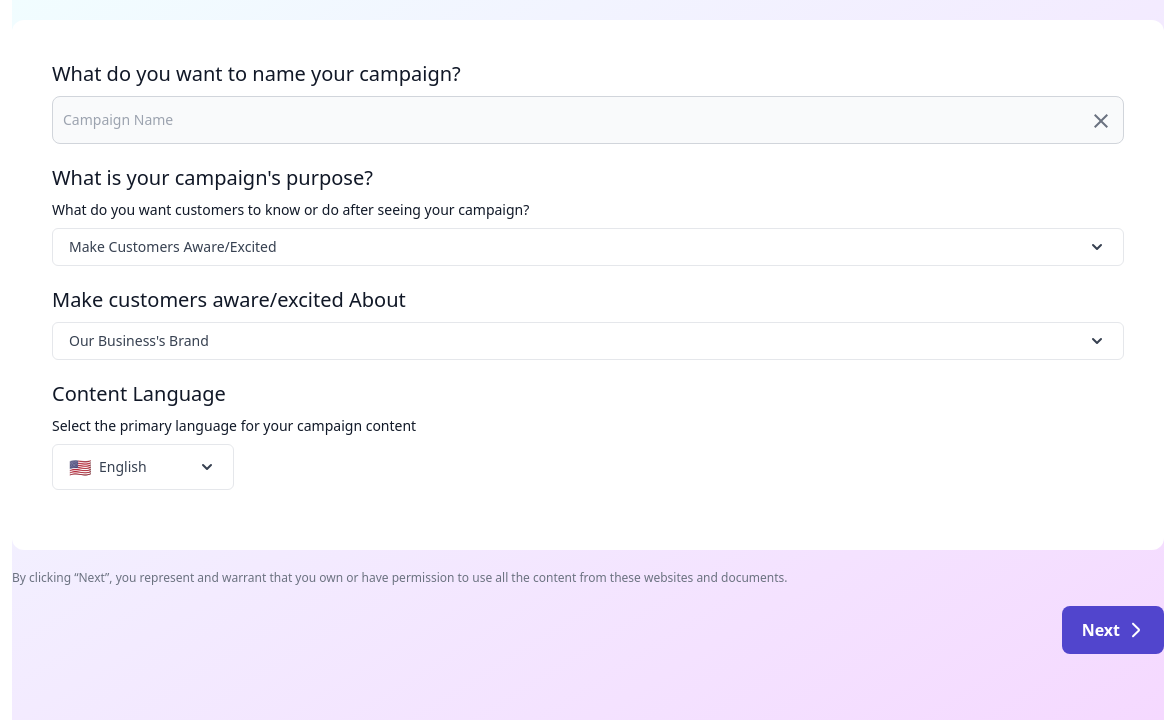
PurposeForm › prevents navigation when campaign name is empty
The image size is (1176, 720).
# Click next button
What coordinates should you click on to do the following:
click the button "Next"
I would click on:
 (1113, 630)
Its box is [1062,606,1164,654].
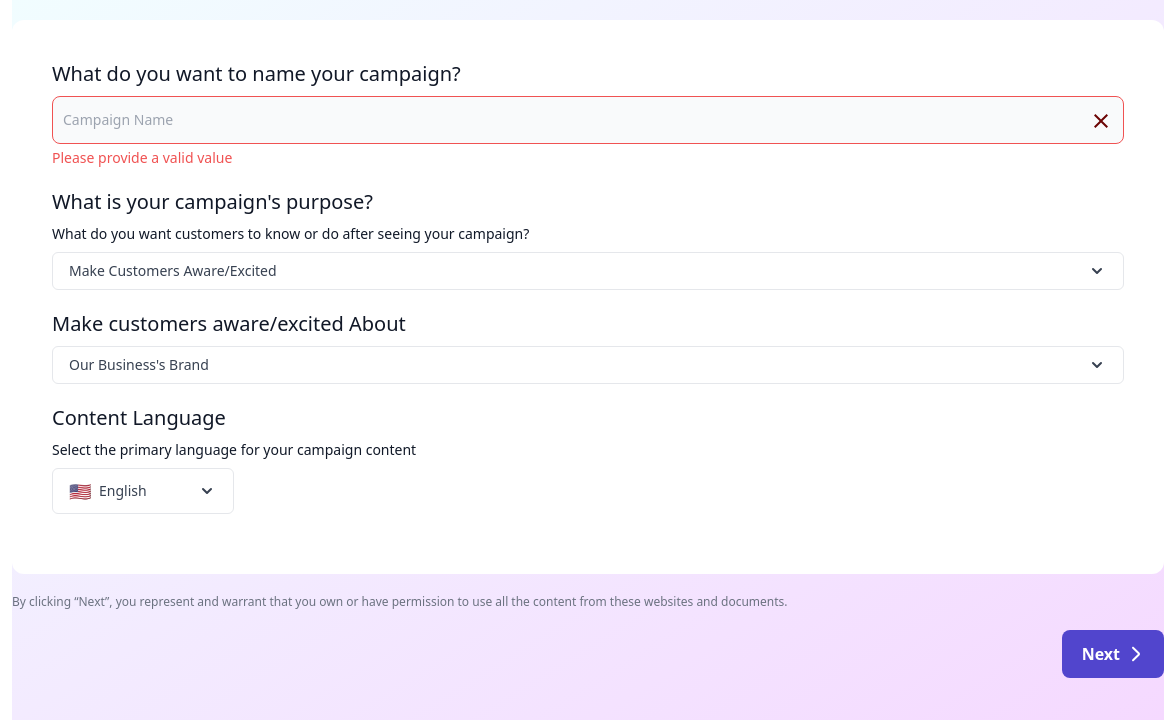
Expected: the text "Please provide a valid value" is shown, [52,148,232,167]
